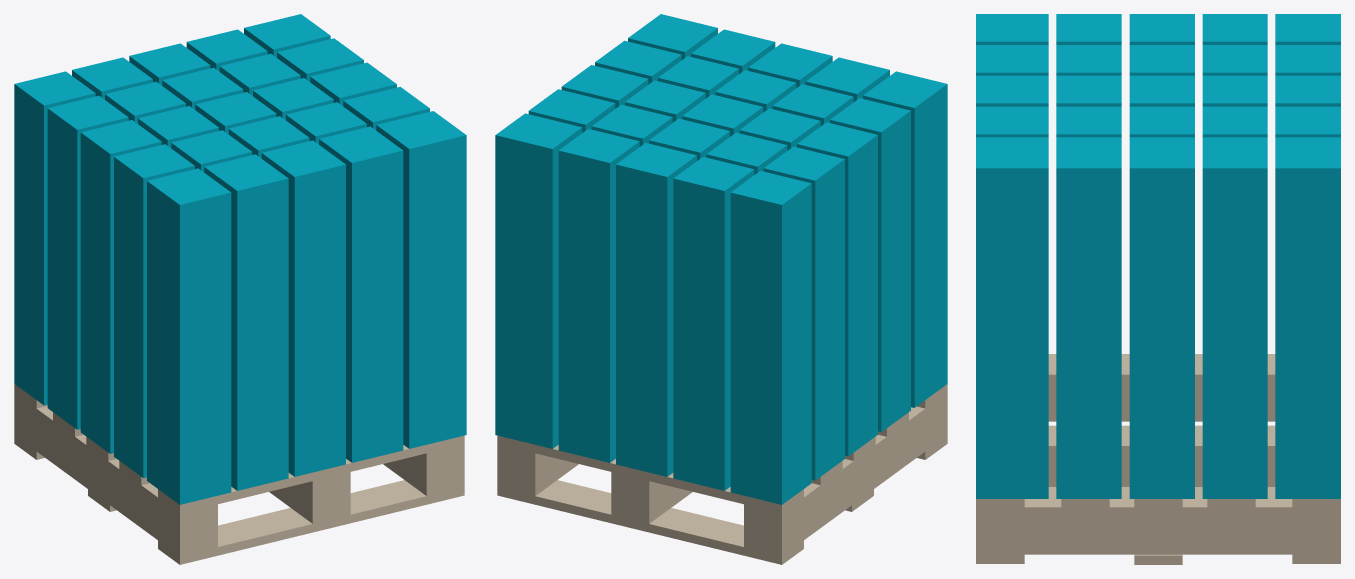
File: full-pallet.glb
3 views of the same model, side by side, from view 1: azimuth 30°, elevation 25°; view 2: azimuth 150°, elevation 25°; view 3: azimuth 270°, elevation 25° (orthographic). The views are drawn at different scales.
Visible parts, largest first — view 1: Mesh_Mesh_head_geo.001_lambert2SG.001; view 2: Mesh_Mesh_head_geo.001_lambert2SG.001; view 3: Mesh_Mesh_head_geo.001_lambert2SG.001.
Part boxes in pixels (x1,y1,x2,y2): Mesh_Mesh_head_geo.001_lambert2SG.001: (14,14,466,564); Mesh_Mesh_head_geo.001_lambert2SG.001: (495,14,947,564); Mesh_Mesh_head_geo.001_lambert2SG.001: (976,14,1340,564).
Size of the model in its own units: 5 by 6 by 5.
